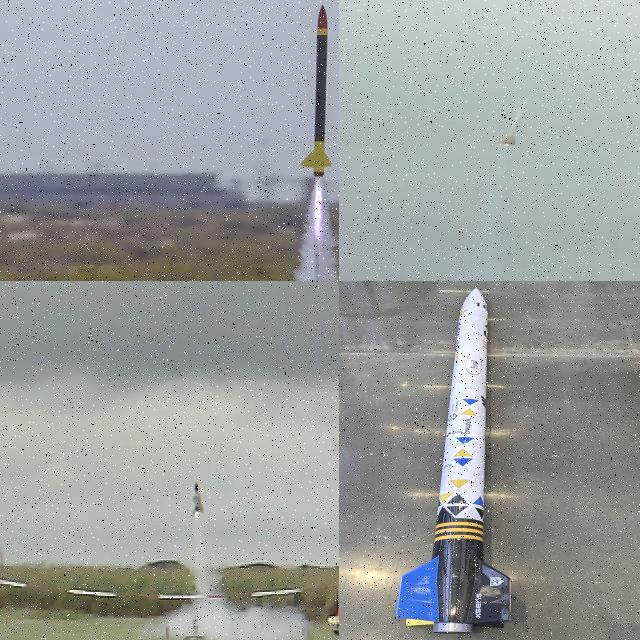Rocket: (395, 287, 512, 634), (302, 4, 332, 179), (326, 533, 339, 636), (502, 97, 528, 145), (190, 481, 206, 513)
